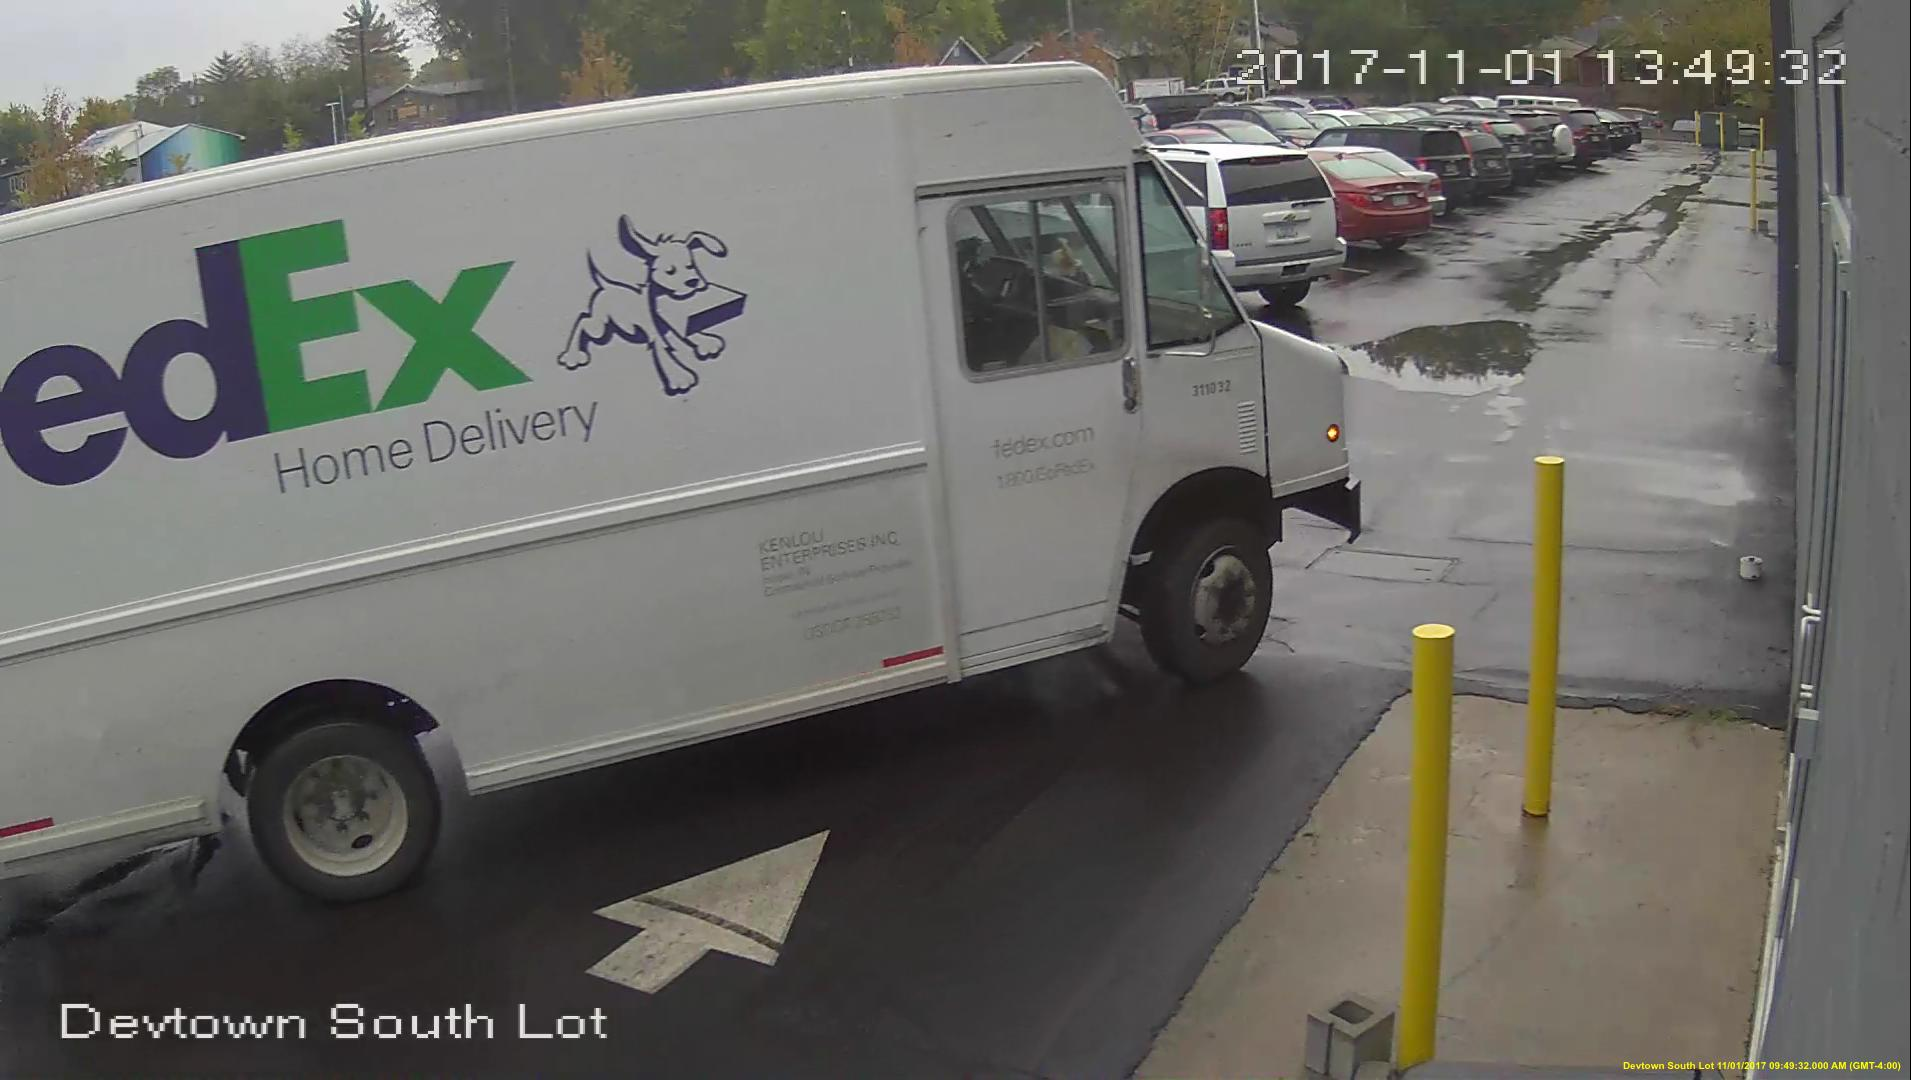fedex_truck: (3, 60, 1364, 902)
